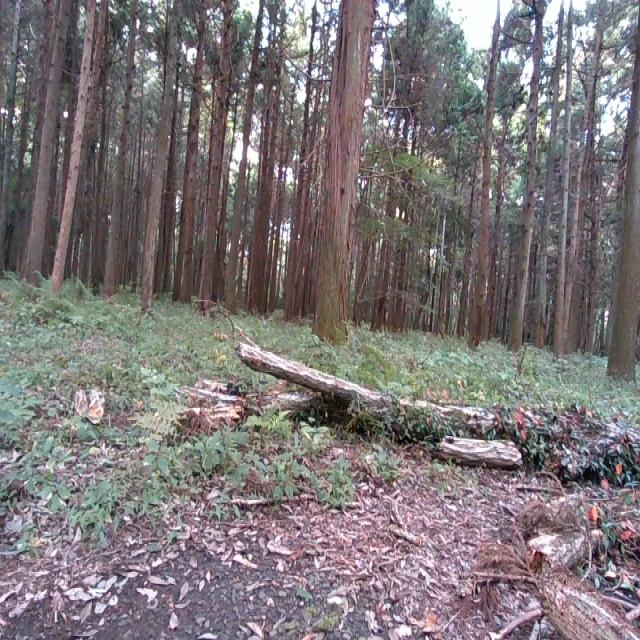tree: (225, 337, 640, 467), (315, 0, 375, 336), (47, 0, 98, 296), (520, 521, 640, 640), (504, 0, 543, 355), (141, 0, 186, 304), (465, 0, 503, 344), (28, 0, 71, 287), (608, 0, 639, 376), (285, 0, 321, 317), (106, 0, 143, 295), (203, 0, 238, 304), (251, 0, 284, 311), (175, 0, 203, 311), (557, 0, 571, 354)
